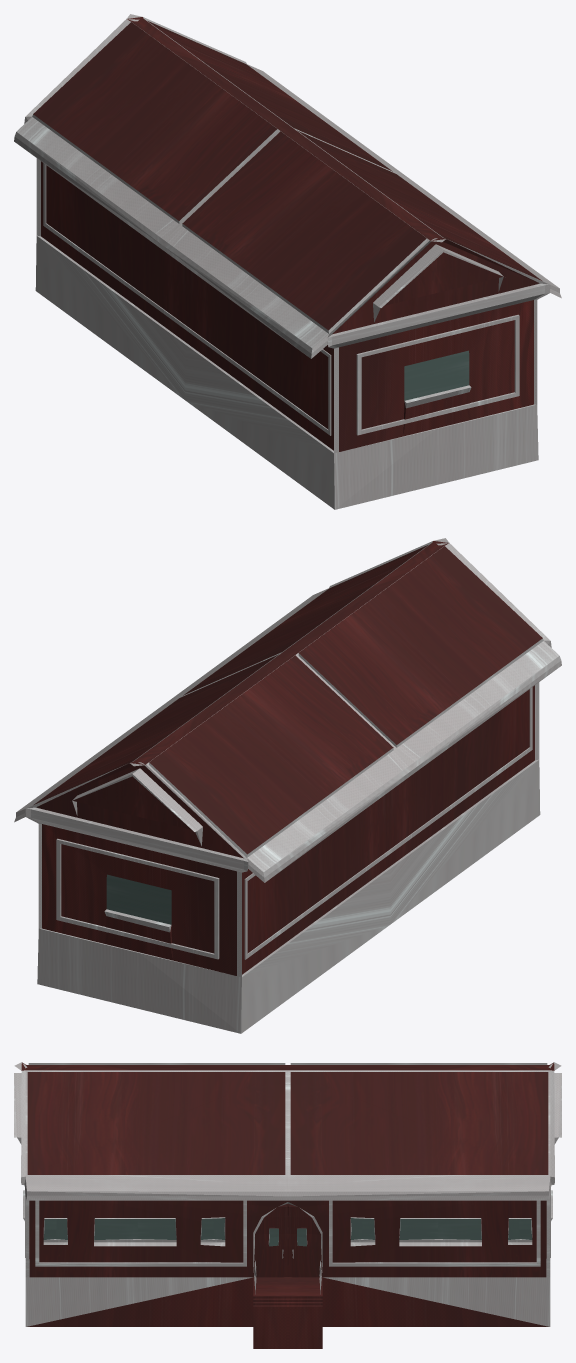
File: Alt Barn Colliders.fbx
3 renders of one model, top to bottom at view 1: azimuth 30°, elevation 25°; view 2: azimuth 150°, elevation 25°; view 3: azimuth 270°, elevation 25°, orthographic. The views are drawn at different scales.
Parts seen in each view (by area): view 1: Cube; view 2: Cube; view 3: Cube.
Part boxes in pixels (bbox=[...]): Cube: bbox=[14, 14, 561, 509]; Cube: bbox=[14, 538, 561, 1033]; Cube: bbox=[14, 1062, 561, 1348].
Size of the model in its own units: 2502 by 2135 by 4876.
